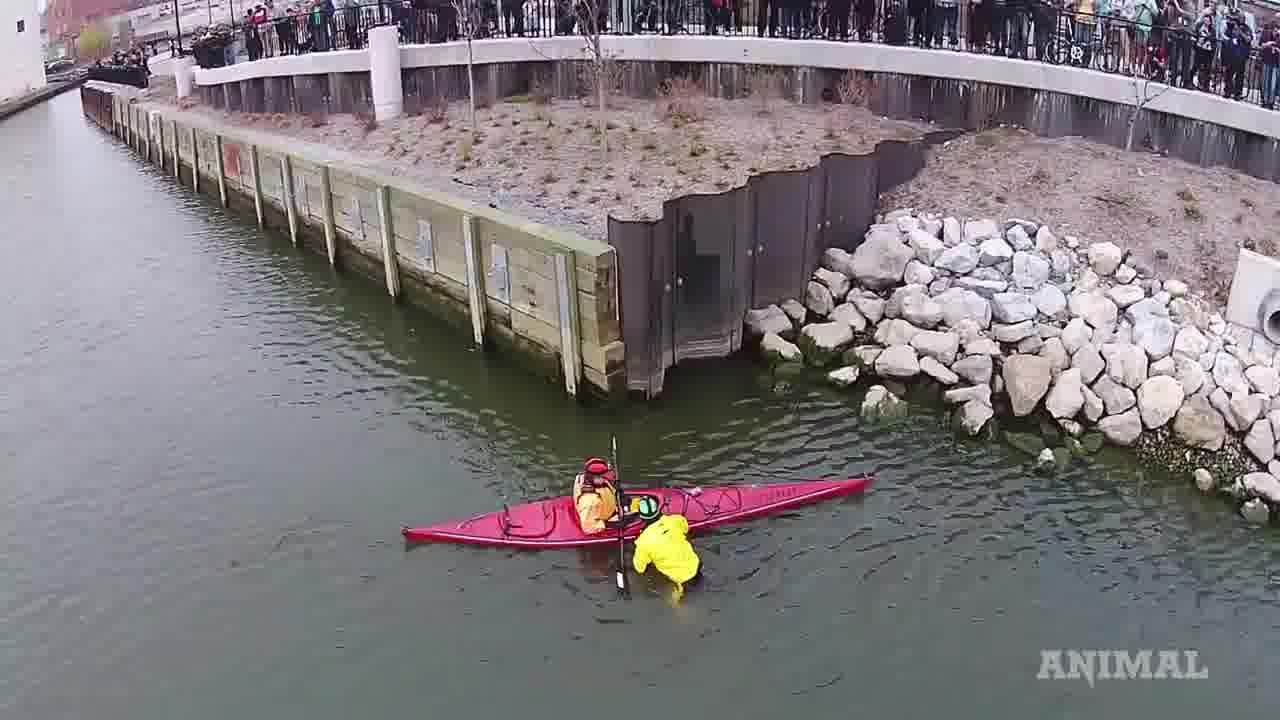human: (621, 498, 716, 609)
